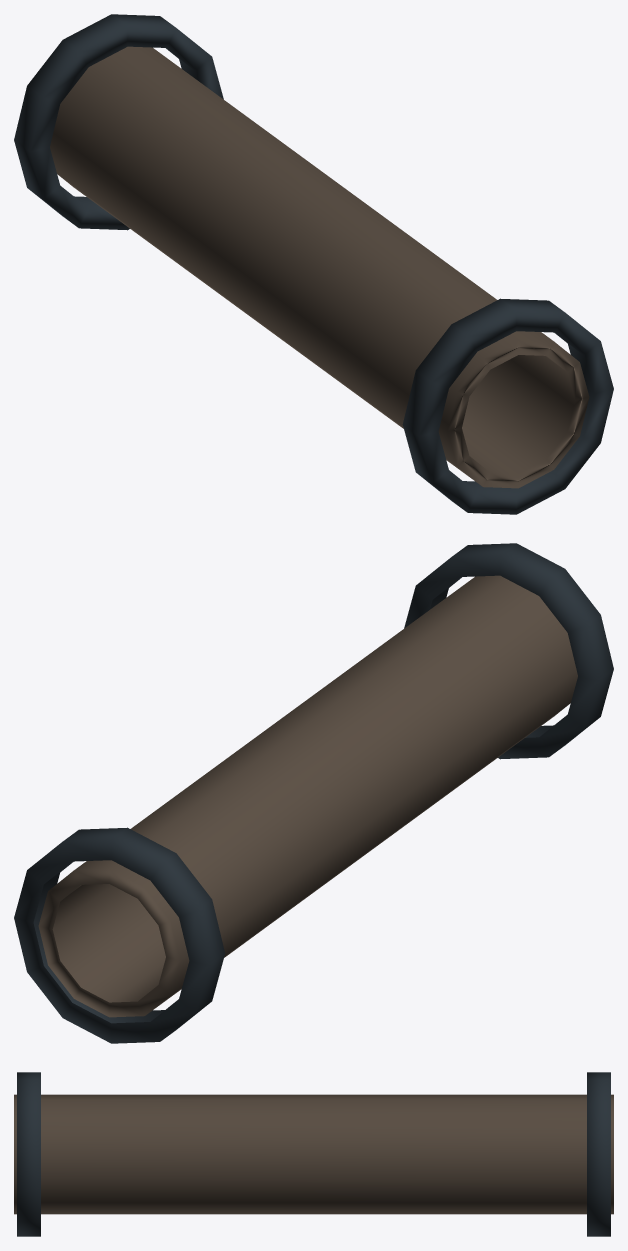
The model's file is pipe-1.glb.
3 views of the same model, one above another, from view 1: azimuth 30°, elevation 25°; view 2: azimuth 150°, elevation 25°; view 3: azimuth 270°, elevation 25° (orthographic). The views are drawn at different scales.
Parts seen in each view (by area): view 1: pipe/0/KR-230-1; view 2: pipe/0/KR-230-1; view 3: pipe/0/KR-230-1.
Boxes of the visible parts, x1=… form: pipe/0/KR-230-1: x1=14, y1=14, x2=613, y2=514; pipe/0/KR-230-1: x1=14, y1=543, x2=613, y2=1043; pipe/0/KR-230-1: x1=14, y1=1072, x2=613, y2=1236.
Size of the model in its own units: 0.55 by 0.55 by 2.
